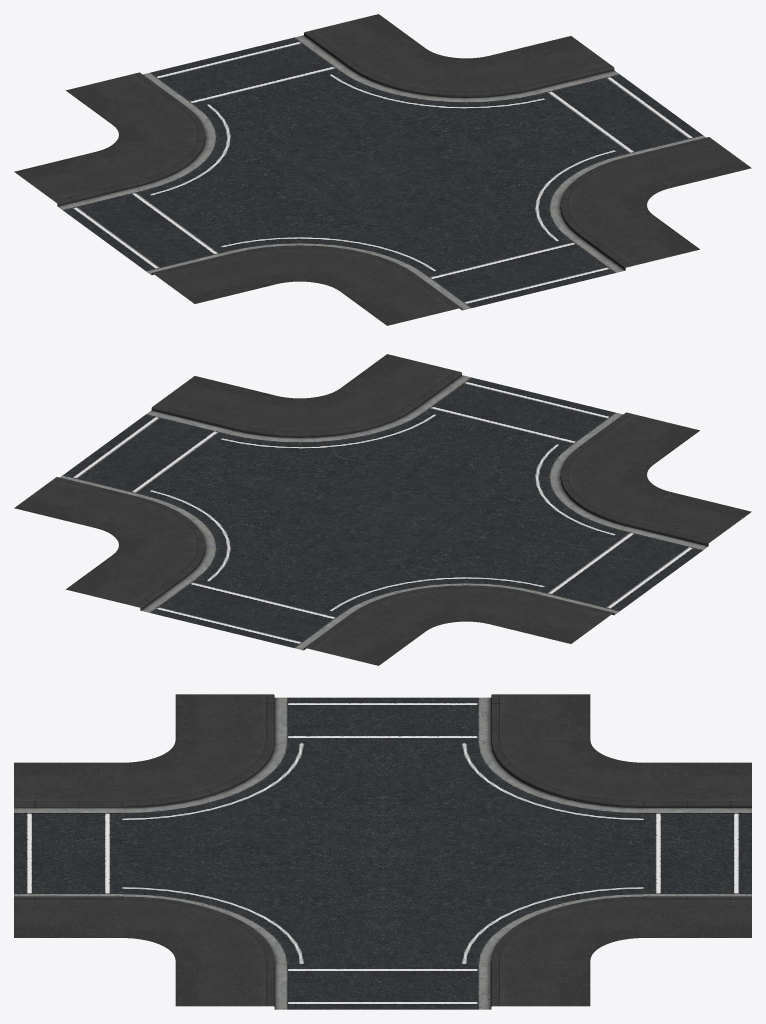
The model's file is city_intersectionUS.fbx.
3 renders of one model, top to bottom at view 1: azimuth 30°, elevation 25°; view 2: azimuth 150°, elevation 25°; view 3: azimuth 270°, elevation 25°, orthographic. The views are drawn at different scales.
Parts seen in each view (by area): view 1: obj0; view 2: obj0; view 3: obj0.
Part boxes in pixels (bbox=[...]): obj0: bbox=[14, 14, 751, 325]; obj0: bbox=[14, 354, 751, 665]; obj0: bbox=[14, 694, 751, 1009].
Bounding box in the file's own units: 51.97 × 0.254 × 51.97.
